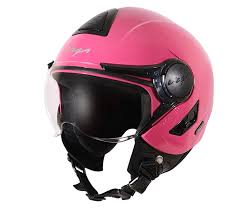helmet: (43, 7, 218, 200)
